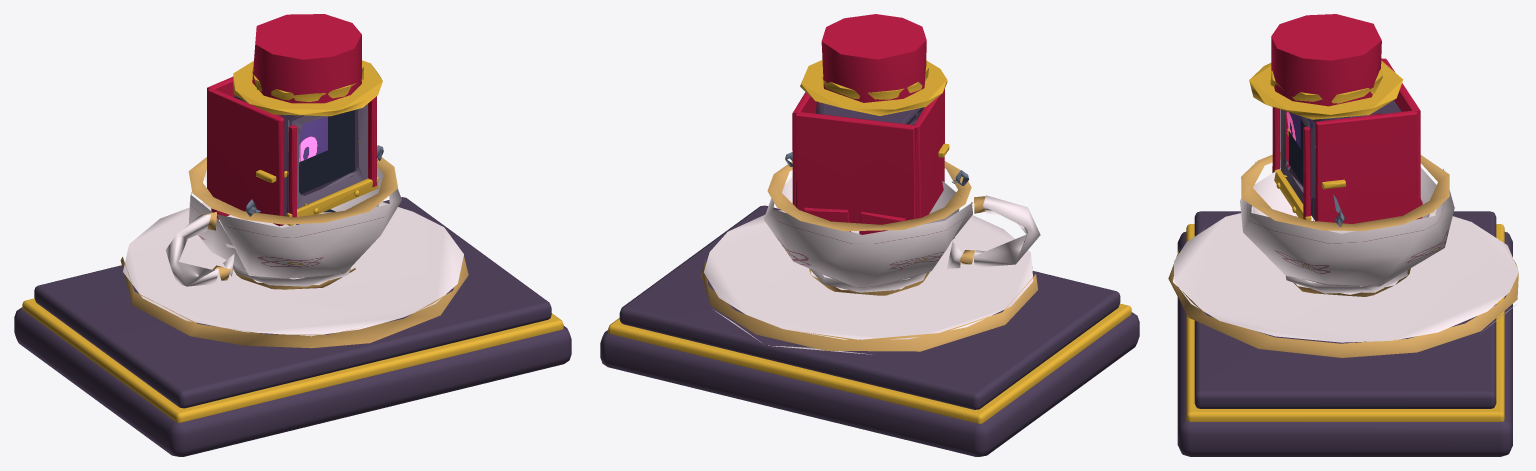
The model's file is kart.outfit.ringmaster.lod1.glb.
3 views of the same model, side by side, from view 1: azimuth 30°, elevation 25°; view 2: azimuth 150°, elevation 25°; view 3: azimuth 270°, elevation 25° (orthographic). The views are drawn at different scales.
Visible parts, largest first — view 1: emi_teacup_mesh, stand_display_top, stand_display_base, top_hat_crown, stand_brass_band, jacket_side.001, top_hat_brim, waist_band, front_open_edge.001, front_open_edge, hat_band; view 2: emi_teacup_mesh, stand_display_top, stand_display_base, jacket_back, stand_brass_band, top_hat_crown, jacket_side.001, top_hat_brim, hat_band, jacket_side; view 3: emi_teacup_mesh, stand_display_top, stand_display_base, jacket_side, top_hat_crown, stand_brass_band, top_hat_brim, jacket_back, hat_band, front_open_edge, waist_band, front_open_edge.001.
Boxes of the visible parts, x1,y1,x2,y2 form: emi_teacup_mesh: [120, 96, 468, 348]; stand_display_top: [34, 197, 551, 408]; stand_display_base: [14, 307, 571, 456]; top_hat_crown: [252, 14, 361, 103]; stand_brass_band: [22, 298, 563, 422]; jacket_side.001: [207, 88, 284, 226]; top_hat_brim: [233, 60, 382, 116]; waist_band: [286, 176, 378, 225]; front_open_edge.001: [288, 125, 296, 217]; front_open_edge: [368, 96, 376, 187]; hat_band: [252, 66, 363, 102]; emi_teacup_mesh: [701, 101, 1040, 354]; stand_display_top: [619, 205, 1120, 409]; stand_display_base: [600, 312, 1139, 456]; jacket_back: [796, 112, 915, 223]; stand_brass_band: [608, 303, 1131, 423]; top_hat_crown: [821, 14, 926, 102]; jacket_side.001: [914, 88, 944, 218]; top_hat_brim: [800, 60, 947, 115]; hat_band: [821, 65, 928, 99]; jacket_side: [792, 92, 819, 206]; emi_teacup_mesh: [1168, 100, 1518, 357]; stand_display_top: [1194, 211, 1496, 408]; stand_display_base: [1177, 232, 1512, 456]; jacket_side: [1315, 110, 1417, 223]; top_hat_crown: [1271, 14, 1381, 106]; stand_brass_band: [1186, 224, 1504, 421]; top_hat_brim: [1249, 60, 1403, 119]; jacket_back: [1379, 58, 1420, 206]; hat_band: [1270, 69, 1382, 103]; front_open_edge: [1303, 126, 1310, 219]; waist_band: [1272, 166, 1311, 220]; front_open_edge.001: [1272, 107, 1279, 172].
Bounding box in the file's own units: 0.64 × 0.4932 × 0.4816.
Materials: 4 (2 with a texture image).
